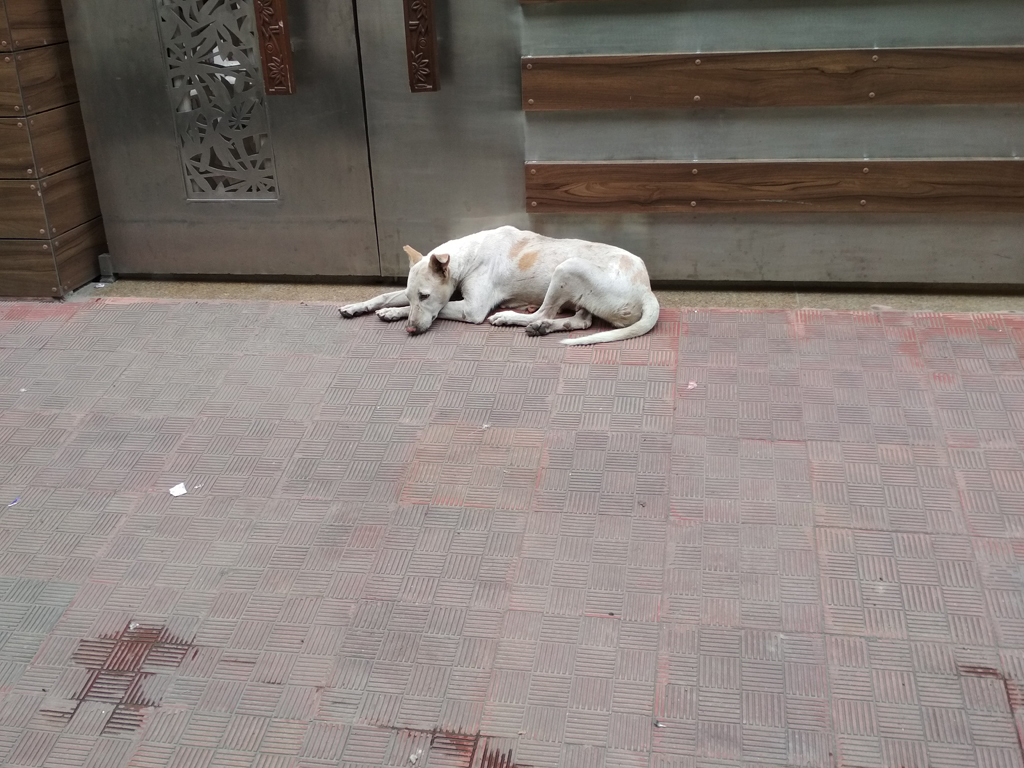dog: (339, 224, 659, 346)
